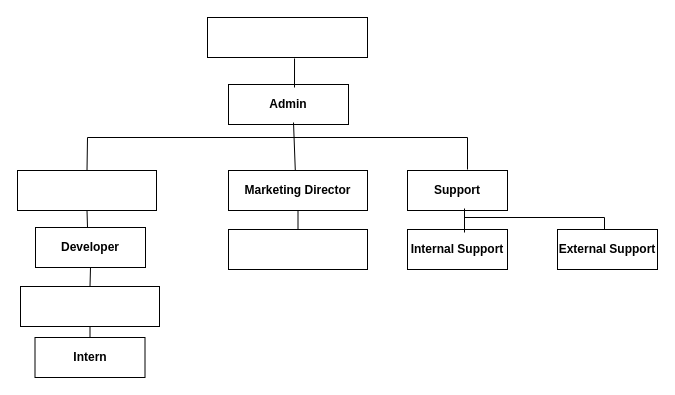
The diagram is 675 pixels wide and 395 high, and some of its shapes have lost their labels. The shapes that lost their labels are listed below. From the top down, each one's box as (x1, y1, x2, y2) in pixels, then its label:
(206, 16, 368, 58): CEO/Founder
(16, 170, 156, 210): Technical Director
(228, 228, 368, 270): Marketing Officer
(20, 286, 160, 326): Senior Programmer
